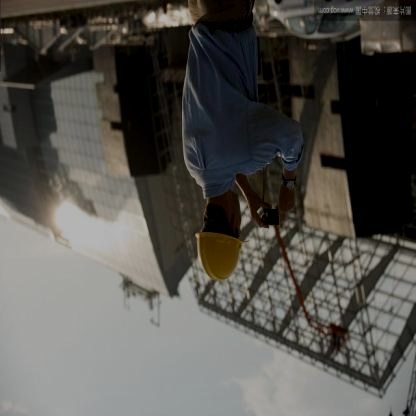yellow: (188, 227, 258, 284)
